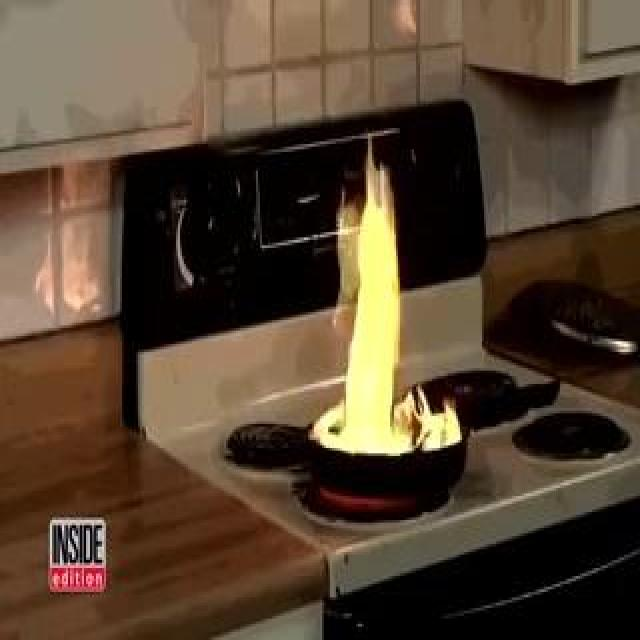Fire: (303, 40, 471, 459)
